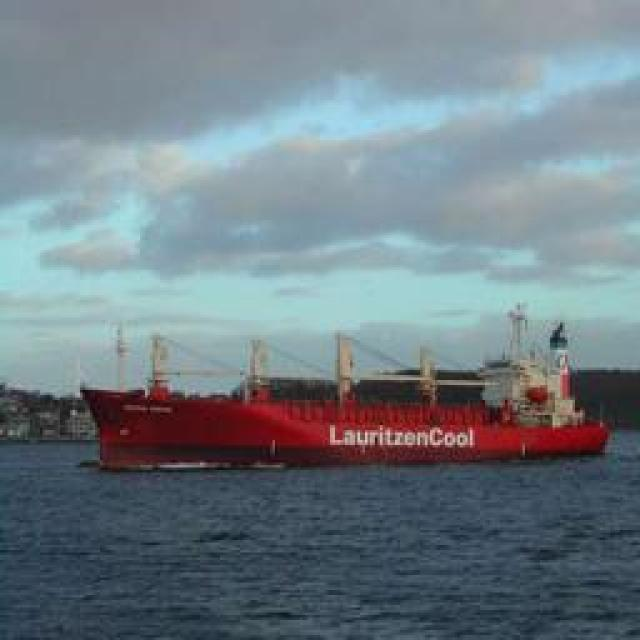CIV_Ship: (90, 328, 608, 470)
